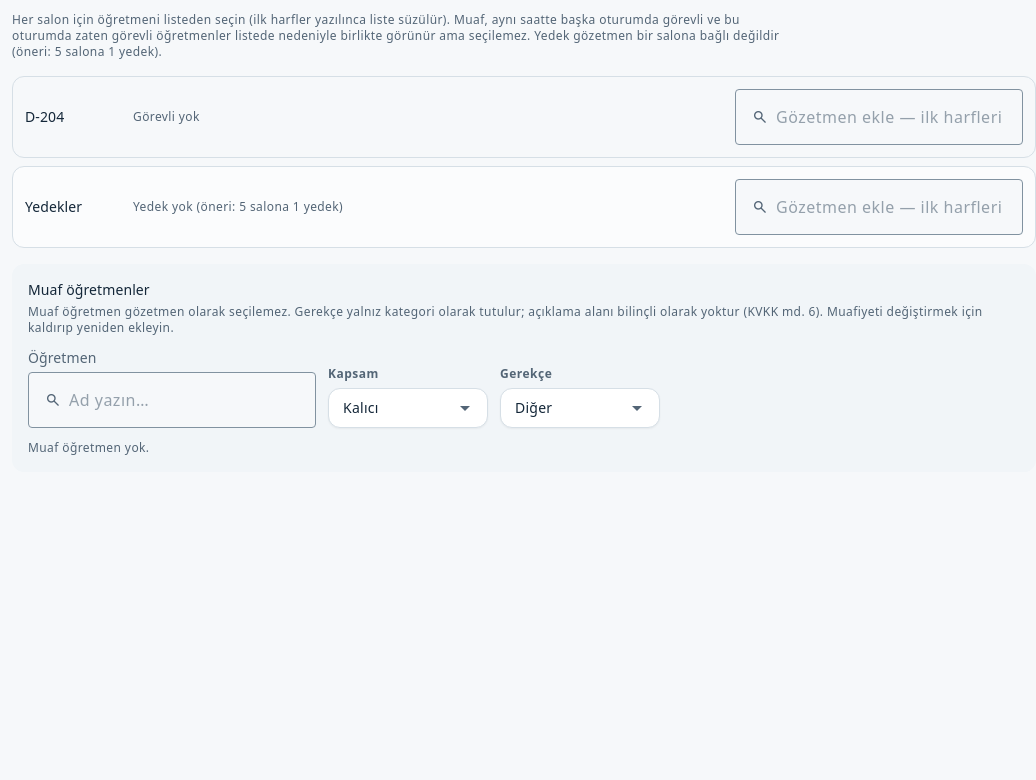
Test: GozetmenlerPaneli › salon satırından aday seçilince atama yapılır; oto-öneri düğmesi YOK
The width and height of the screenshot is (1036, 780).
Check: the text "D-204" is shown, box [25,107,64,126]
Type "Ay" into the dropdown named "D-204 için gözetmen ata" at {"x": 891, "y": 117}, box [776,105,1006,129]
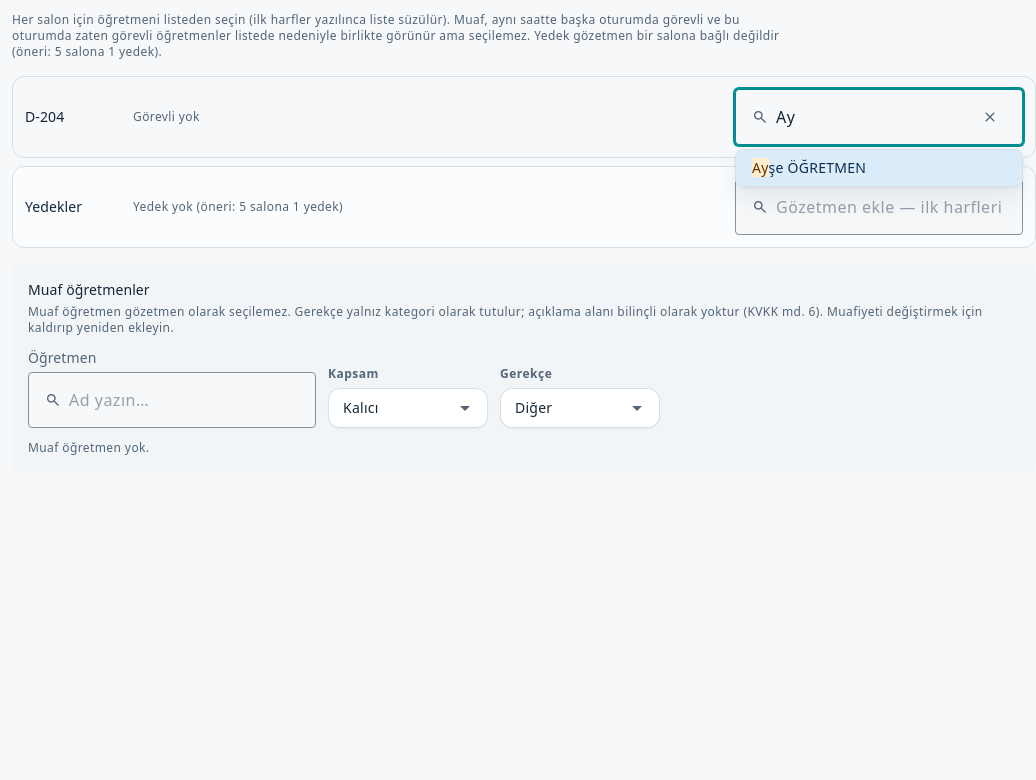
Click the option "Ayşe ÖĞRETMEN" at {"x": 817, "y": 168}, box [736,150,1022,186]
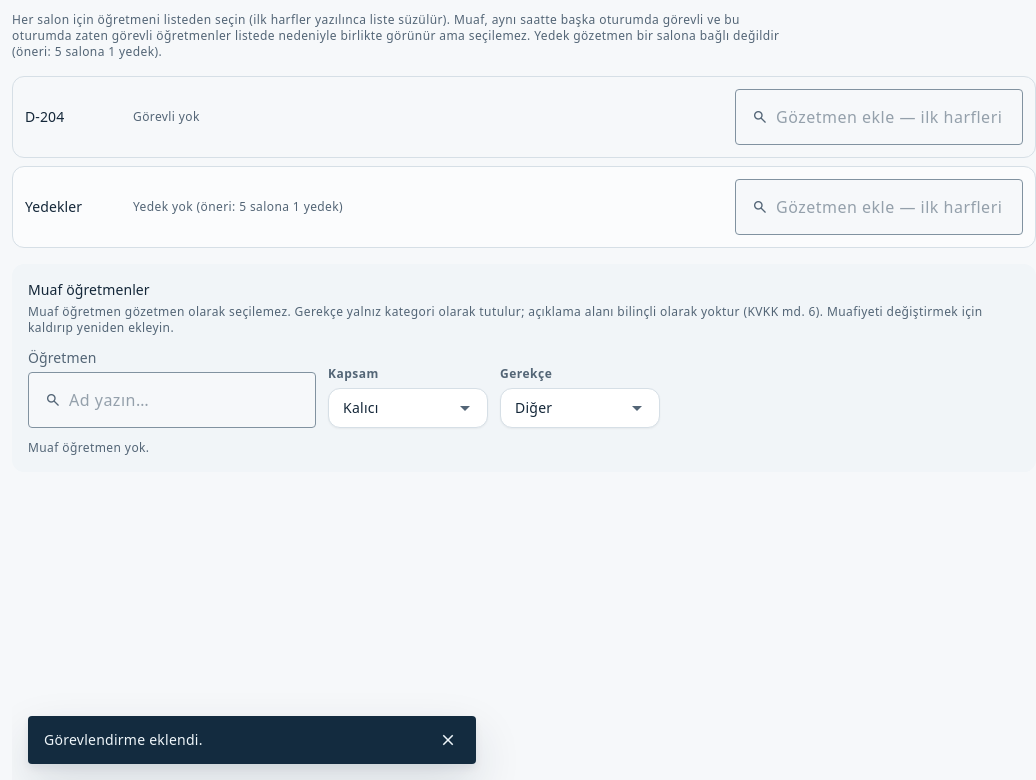
Check: the text "Görevlendirme eklendi." is shown, box [44,730,203,749]
